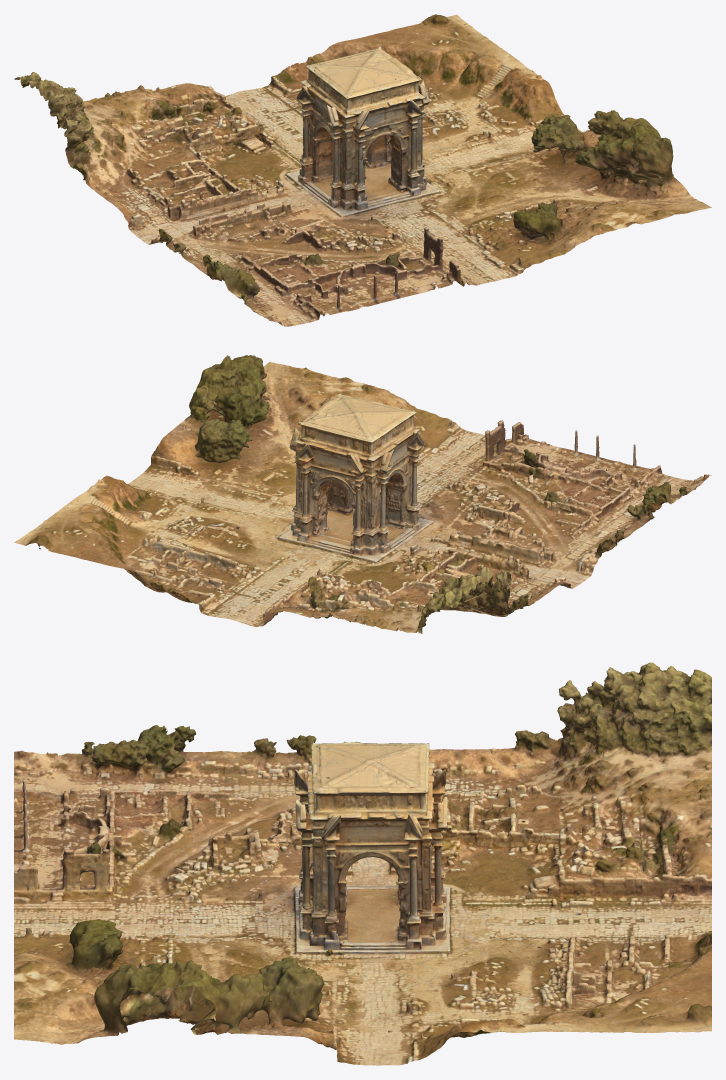
The picture shows the model from 3 angles, top to bottom: view 1: azimuth 30°, elevation 25°; view 2: azimuth 150°, elevation 25°; view 3: azimuth 270°, elevation 25°; orthographic projection. The views are drawn at different scales.
Parts seen in each view (by area): view 1: LBY_002_M8_TriumphalArc; view 2: LBY_002_M8_TriumphalArc; view 3: LBY_002_M8_TriumphalArc.
Part boxes in pixels (x1=…): LBY_002_M8_TriumphalArc: x1=14, y1=14, x2=711, y2=326; LBY_002_M8_TriumphalArc: x1=14, y1=355, x2=711, y2=633; LBY_002_M8_TriumphalArc: x1=14, y1=662, x2=711, y2=1065.
Size of the model in its own units: 71.59 by 18.35 by 71.59.
1 material, 1 textured.
